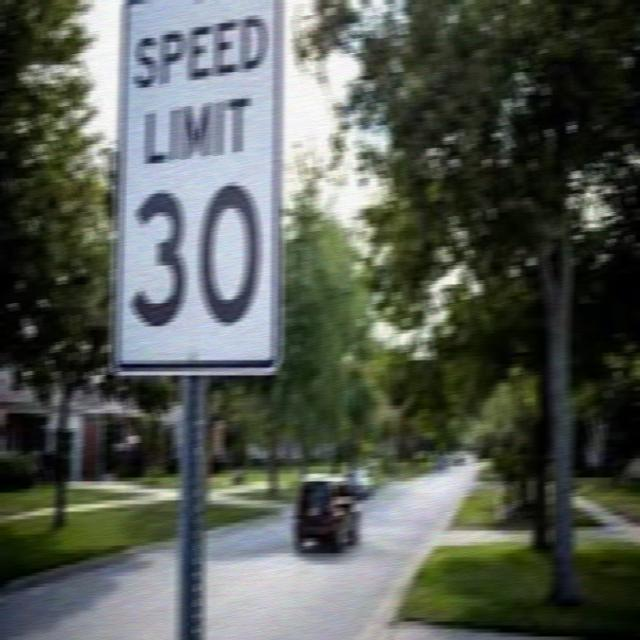speedLimit35: (114, 4, 282, 371)
